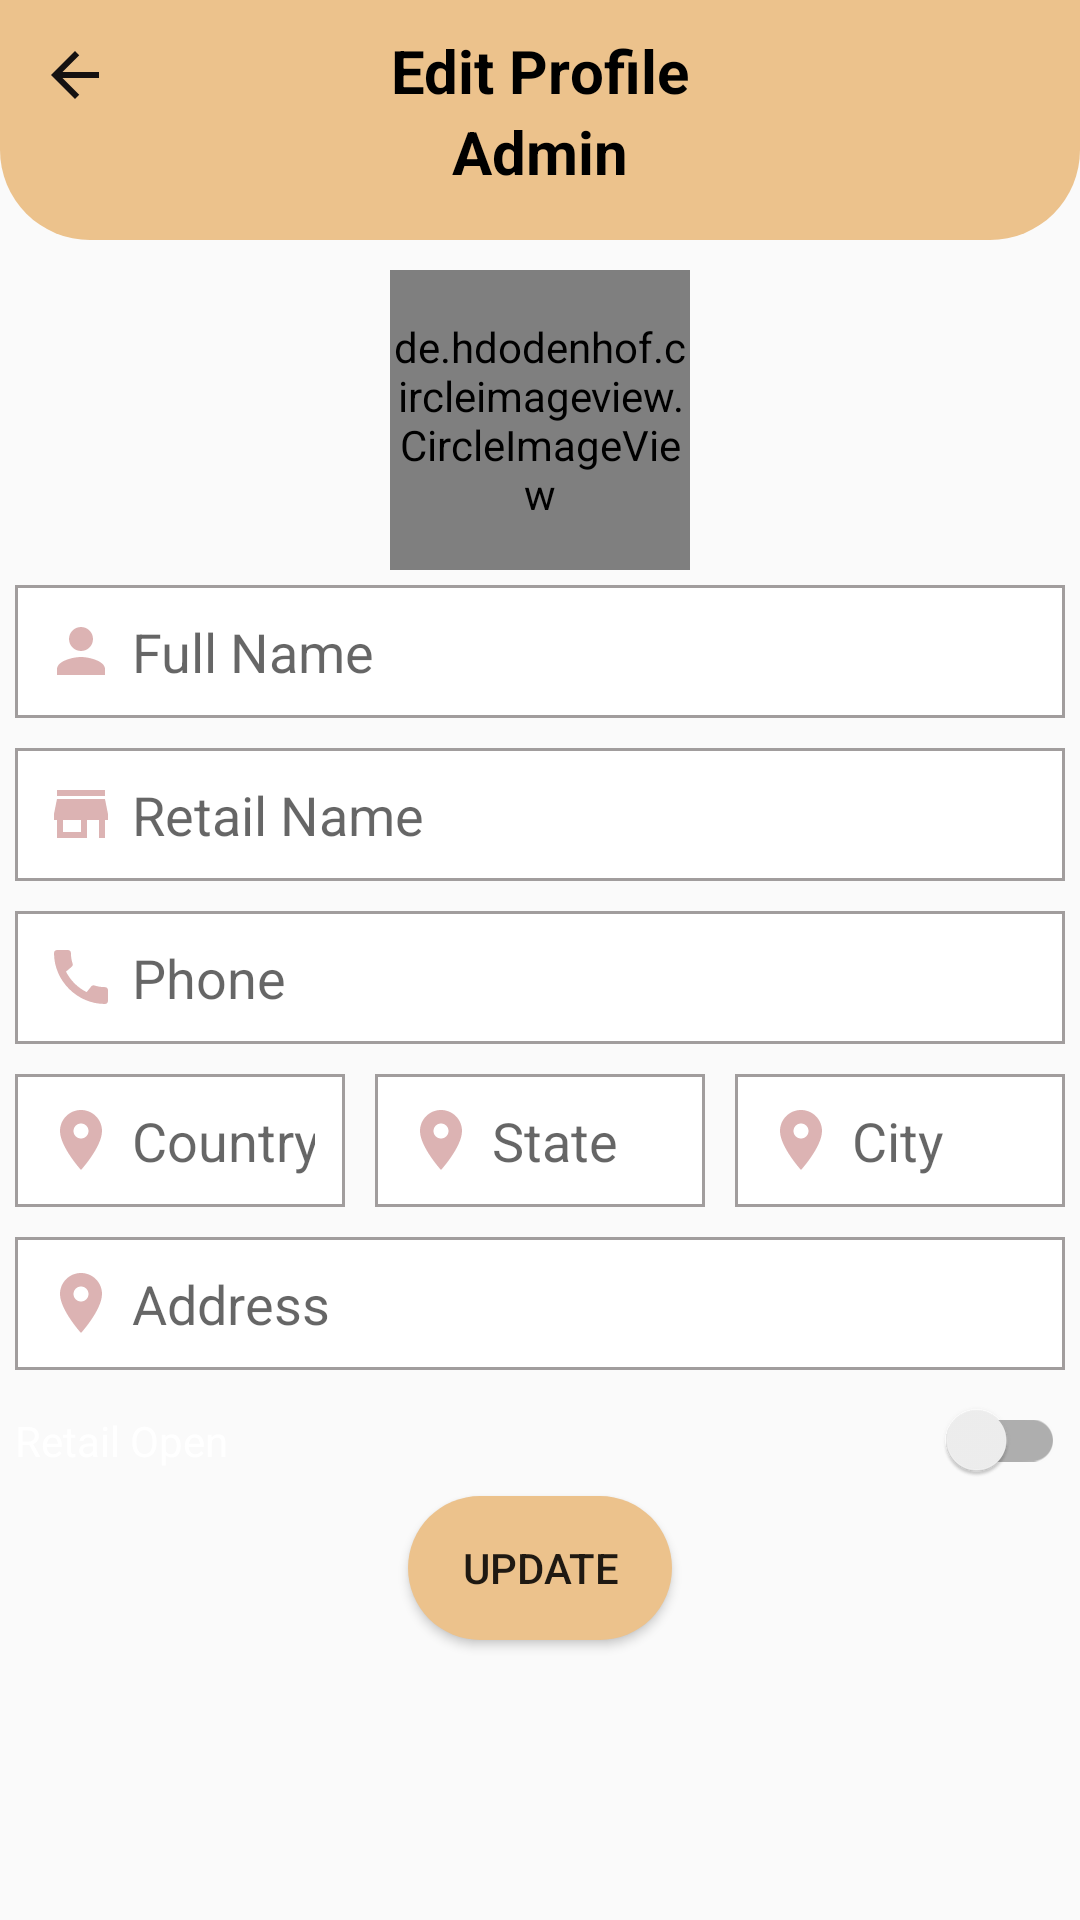

Where icons sit on this 1080*1920 app screen, as {"left": x1, "top": y1, "right": x2, "bottom": y2}:
back: {"left": 51, "top": 51, "right": 99, "bottom": 99}
